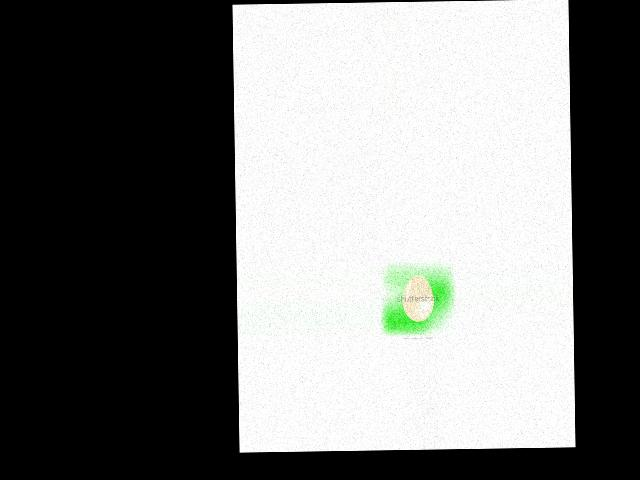egg: (402, 275, 434, 321)
